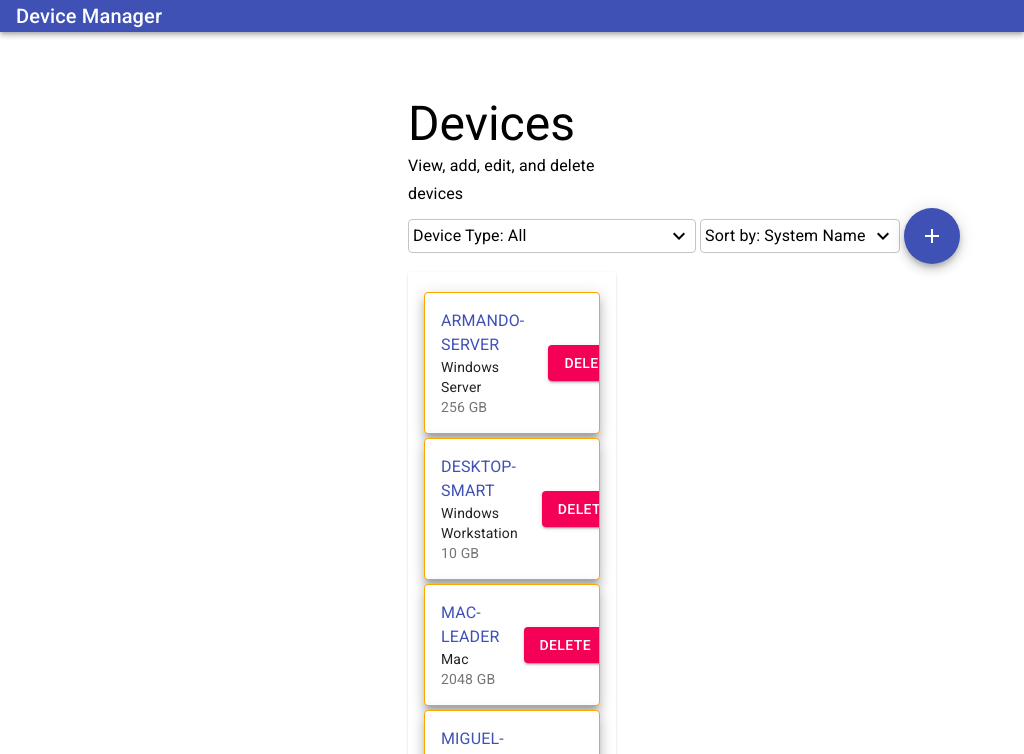
Test: The Dashboard › will filter by device type mac
Expected: the text "ARMANDO-SERVER" is shown, x1=441 y1=309 x2=524 y2=357
What coordinates should you click on to do the following:
click the element with test id "filter-option-dropdown"
I would click on:
 (552, 236)
Its box is x1=408 y1=219 x2=696 y2=253.
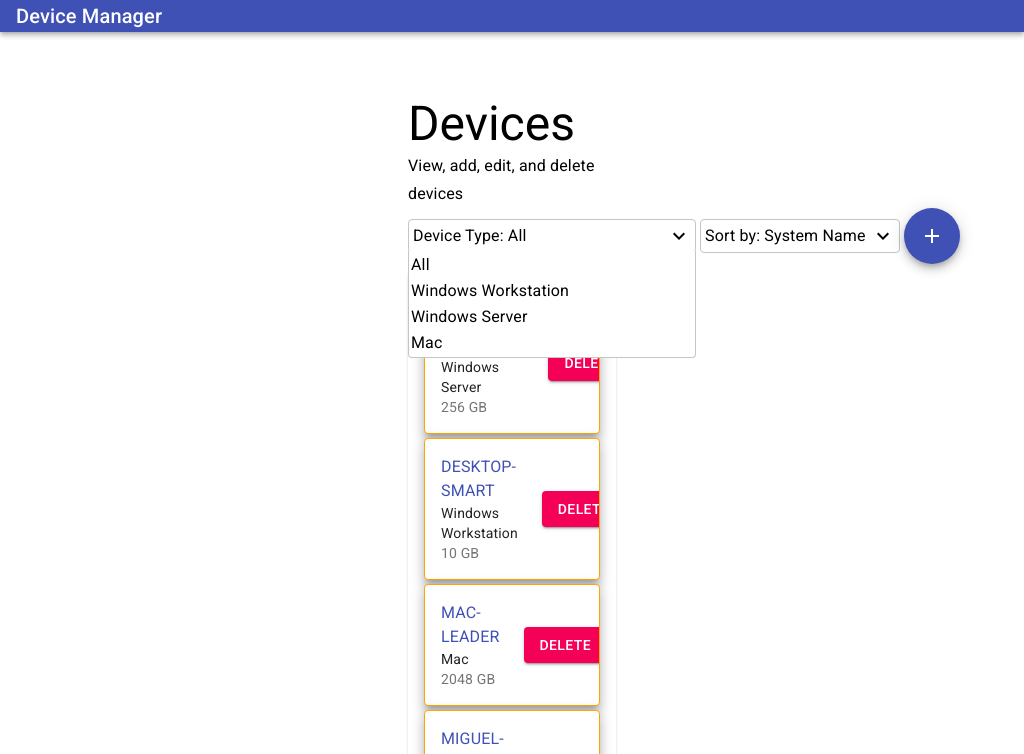
What coordinates should you click on to do the following:
click the list item with test id "filter-MAC"
I would click on:
 (427, 342)
Its box is x1=411 y1=333 x2=442 y2=352.
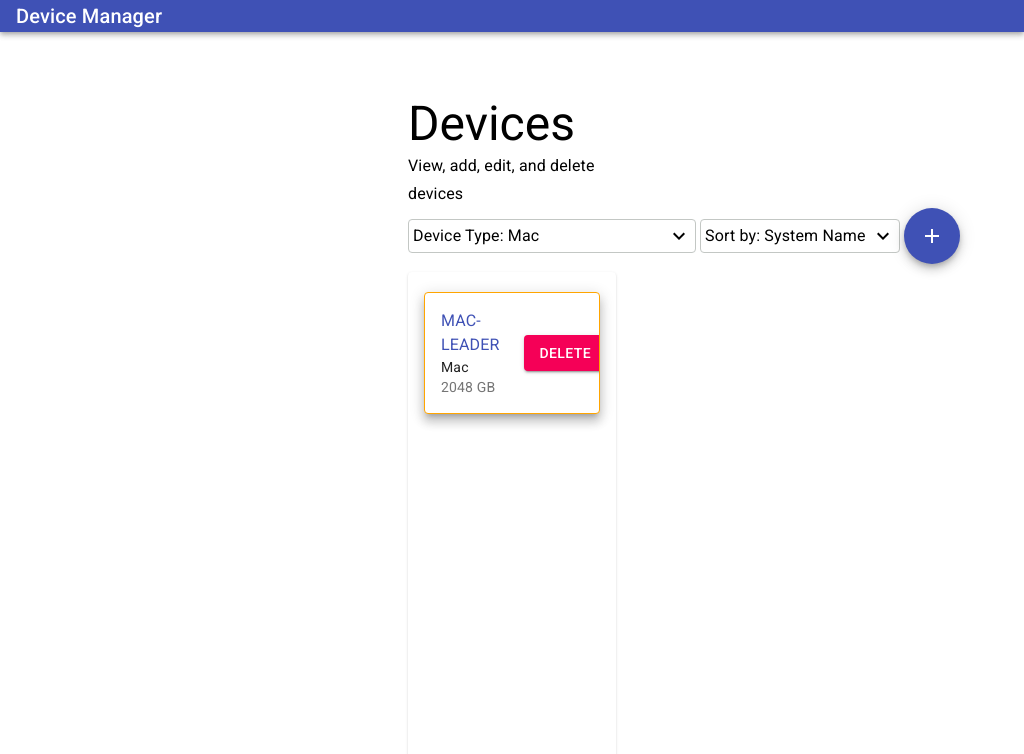
Expected: the text "MAC-LEADER" is shown, x1=441 y1=309 x2=500 y2=357
Expected: the text "ARMANDO-SERVER" is gone
Expected: the text "DESKTOP-SMART" is gone
